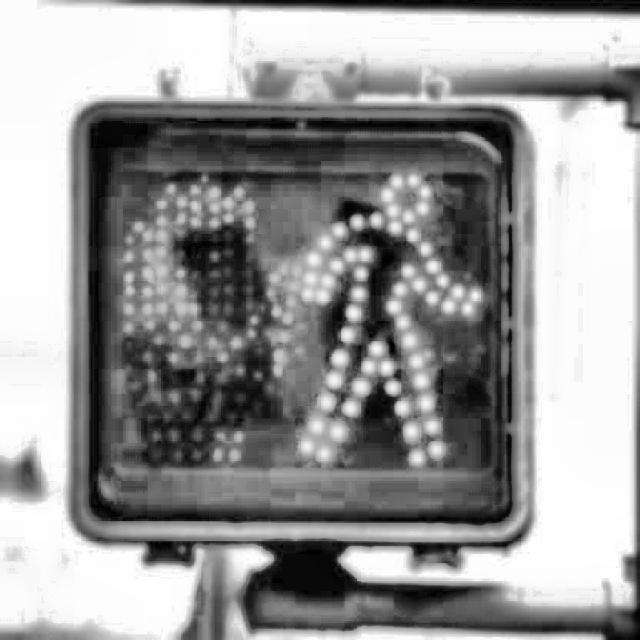semaforo pedestre: (40, 39, 598, 623)
